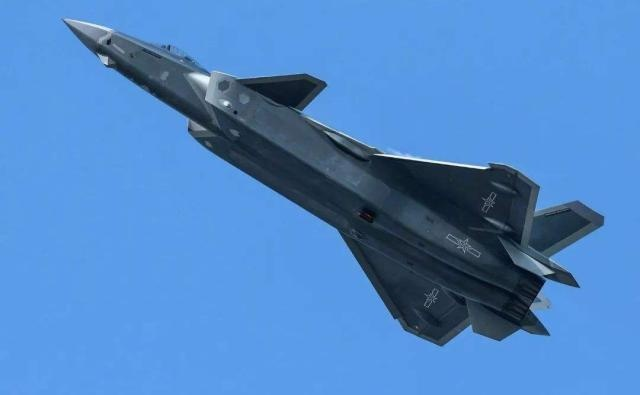airplane: (55, 13, 606, 349)
